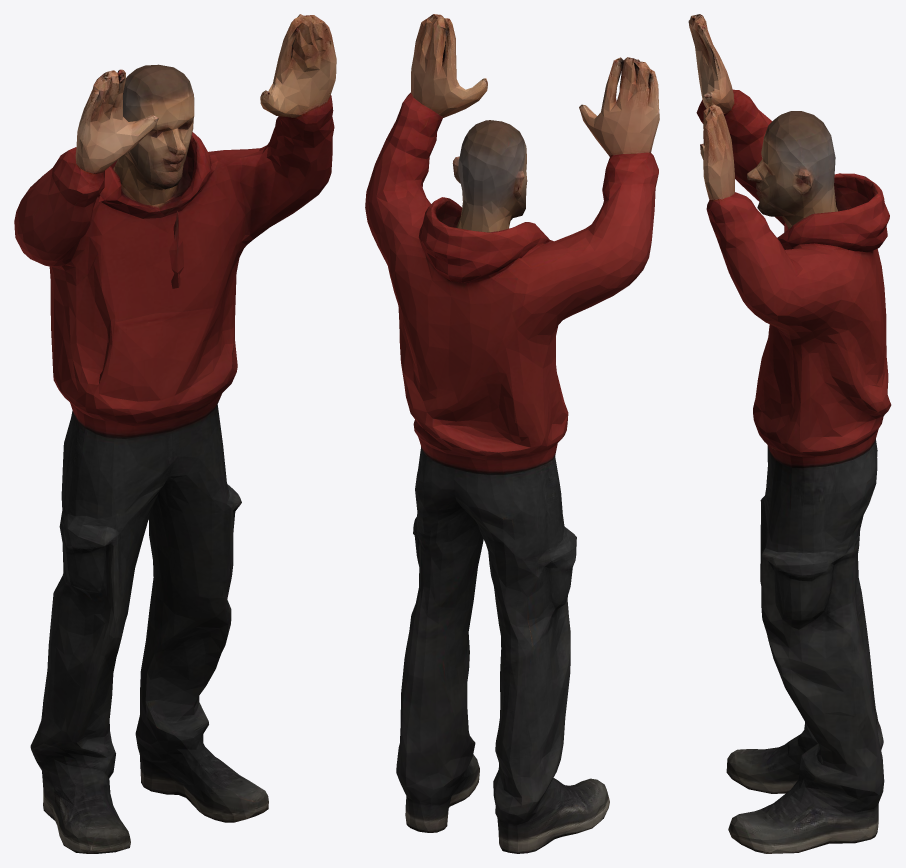
Rendered from enemy_up.glb.
3 views of the same model, side by side, from view 1: azimuth 30°, elevation 25°; view 2: azimuth 150°, elevation 25°; view 3: azimuth 270°, elevation 25° (orthographic). The views are drawn at different scales.
Parts seen in each view (by area): view 1: geometry_0; view 2: geometry_0; view 3: geometry_0.
Part boxes in pixels (x1,y1,x2,y2): geometry_0: [14, 14, 336, 853]; geometry_0: [365, 14, 659, 853]; geometry_0: [688, 14, 891, 853].
Bounding box in the file's own units: 0.3901 × 0.9984 × 0.2425.
Materials: 1 (1 with a texture image).
